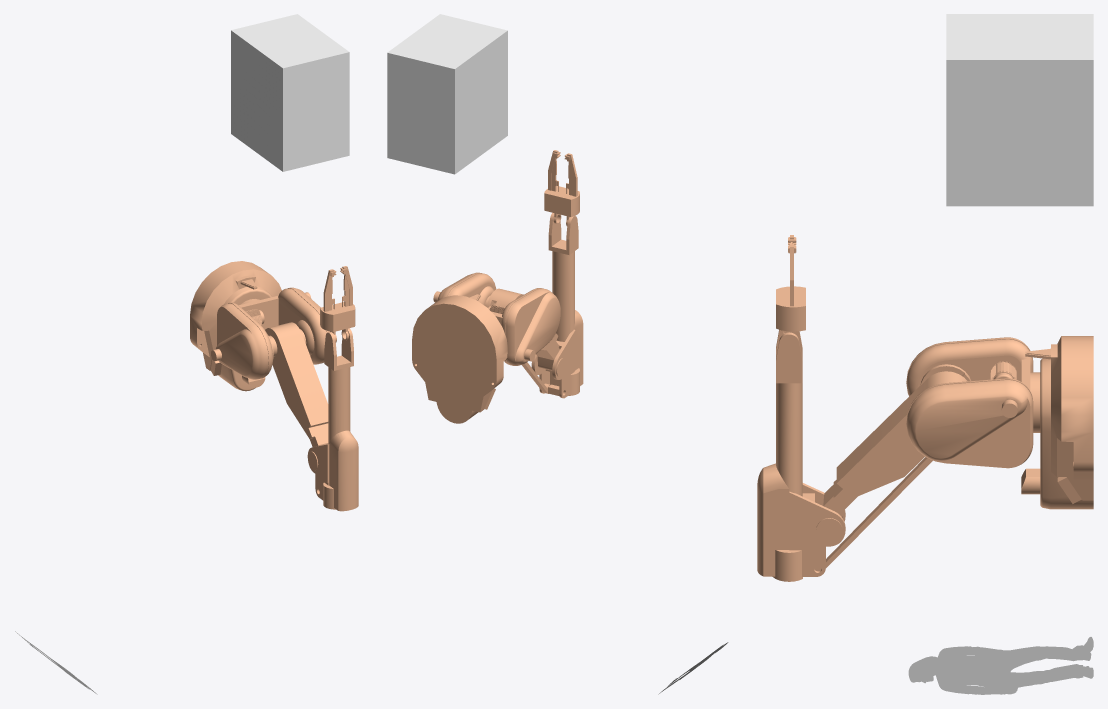
The model's file is robotkol.glb.
The picture shows the model from 3 angles, left to right: view 1: azimuth 30°, elevation 25°; view 2: azimuth 150°, elevation 25°; view 3: azimuth 270°, elevation 25°; orthographic projection. The views are drawn at different scales.
Parts seen in each view (by area): view 1: industrial_robot, SketchUp; view 2: industrial_robot, SketchUp; view 3: industrial_robot, SketchUp, Susan.
Part boxes in pixels (x1,y1,x2,y2): industrial_robot: (190,261,358,511); SketchUp: (231,14,349,171); industrial_robot: (412,150,583,423); SketchUp: (387,14,507,174); industrial_robot: (757,235,1093,581); SketchUp: (946,14,1093,206); Susan: (908,637,1093,694).
Size of the model in its own units: 167 by 323 by 121.
